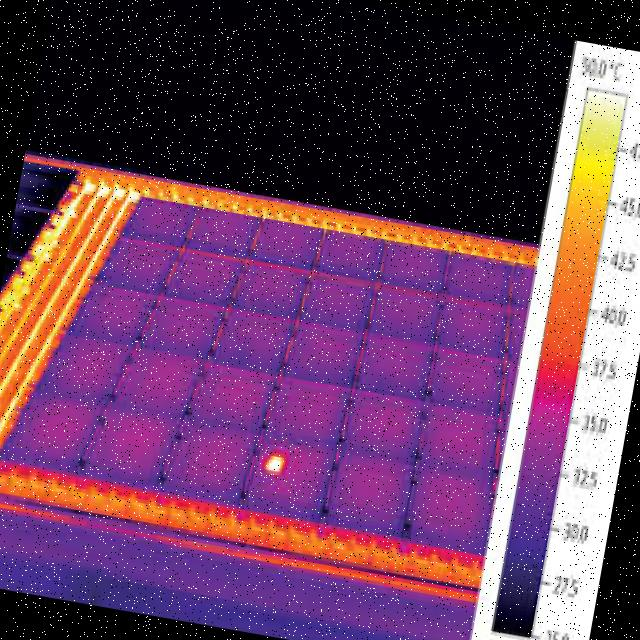Hotspot: (262, 451, 286, 476)
